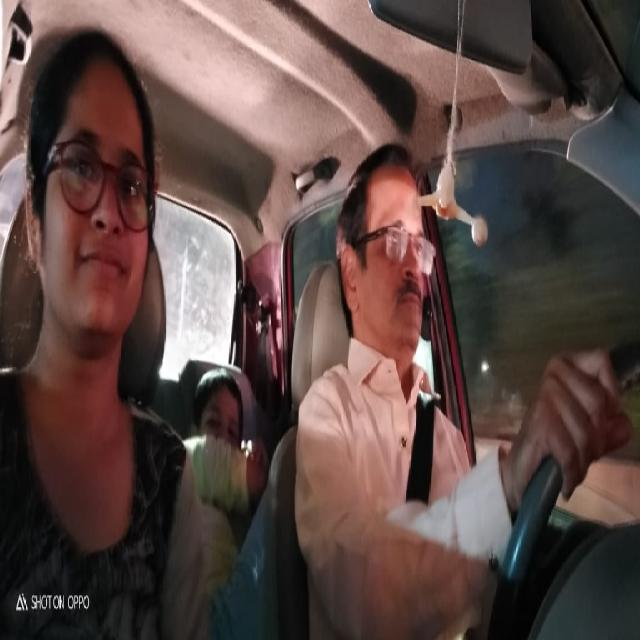person: (21, 19, 162, 356), (336, 131, 431, 385), (190, 363, 252, 472)
